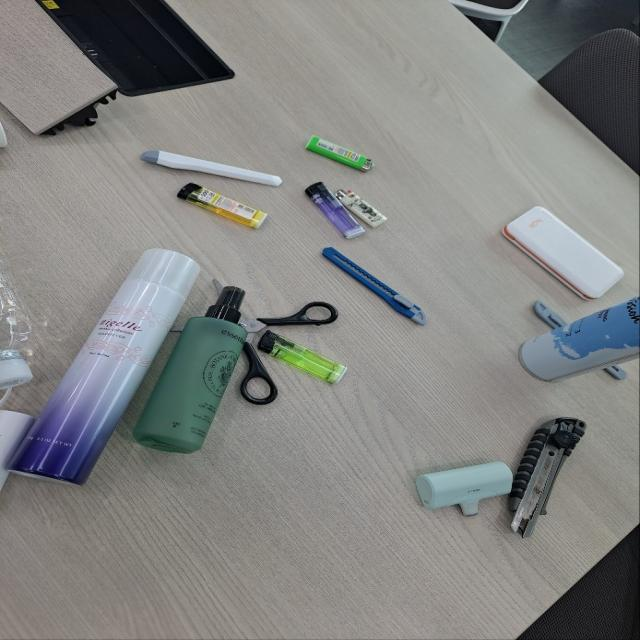cutter: (498, 412, 592, 544), (316, 245, 432, 332), (528, 298, 628, 383), (138, 144, 288, 188)
lighter: (174, 180, 276, 238), (266, 334, 350, 392), (299, 176, 359, 240), (304, 134, 374, 177), (342, 183, 384, 230)
portable_charger: (498, 201, 632, 303), (406, 454, 524, 520)
scissors: (201, 274, 344, 410)
spray: (10, 243, 211, 488), (122, 283, 264, 457)
